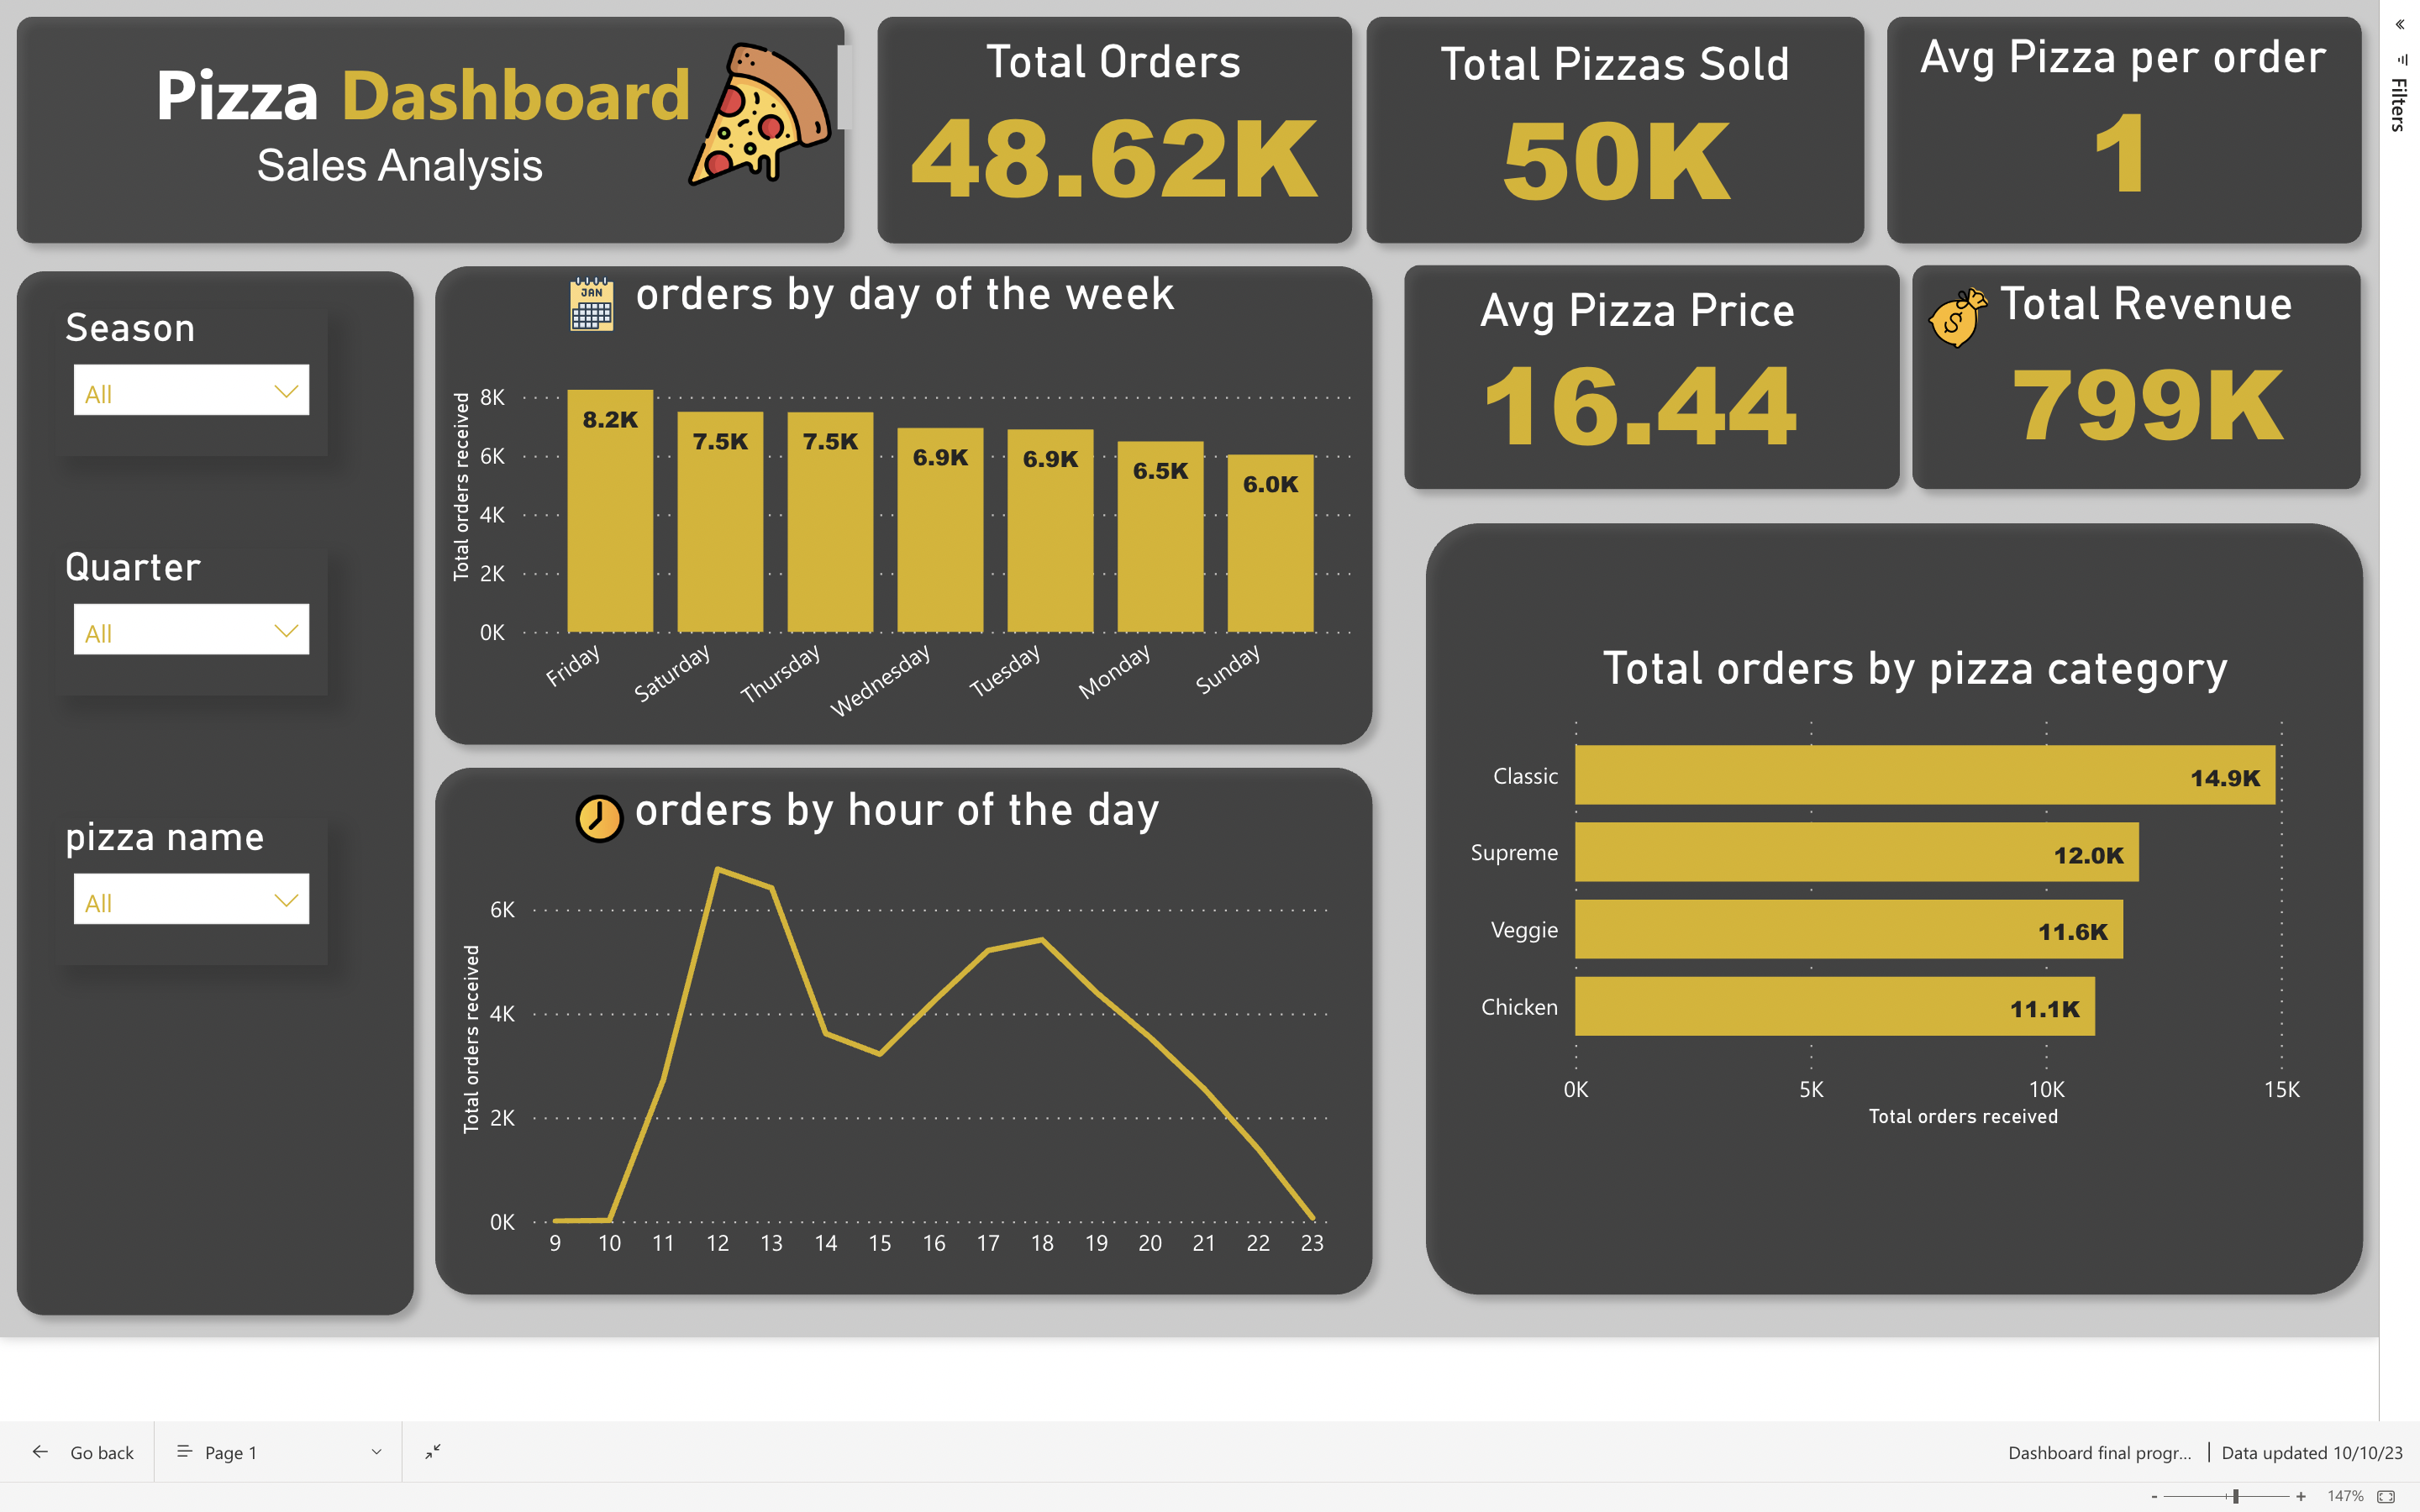

This screenshot's page, from the dashboard's own definition file:
{"tool":"powerbi","page":{"name":"Page 1","canvas":[1280,720],"ordinal":0},"visuals":[{"type":"shape","box":[0,0,463.4,139.8],"z":0},{"type":"shape","box":[463.3,0,273.3,140],"z":1000},{"type":"shape","box":[726,0,285.8,139.9],"z":2000},{"type":"shape","box":[1006.7,0,273.3,140],"z":3000},{"type":"shape","box":[0,137.1,231.7,580],"z":4000},{"type":"shape","box":[224.8,134.4,522.4,275.6],"z":5000},{"type":"shape","box":[224.8,404.4,522.4,301.6],"z":6000},{"type":"shape","box":[746.5,133.9,284.6,138.7],"z":7000},{"type":"shape","box":[1020.3,133.9,259.3,138.7],"z":8000},{"type":"textbox","box":[0,19.2,463.4,57.6],"z":9000},{"type":"textbox","box":[76,69.9,278.6,48.2],"z":10000},{"type":"card","title":"Total Orders","fields":{"Values":["CountNonNull(pizza_data_analysis.order_id)"]},"box":[476.7,21.7,245,95],"z":11000},{"type":"card","title":"Avg Pizza Price","fields":{"Values":["Avg(pizza_data_analysis.price)"]},"box":[758.6,155.6,244.8,94.1],"z":12000},{"type":"card","title":"Avg Pizza per order","fields":{"Values":["Avg(pizza_data_analysis.quantity)"]},"box":[1020.3,19.3,244.8,95.3],"z":13000},{"type":"card","title":"Total Revenue","fields":{"Values":["Sum(pizza_data_analysis.price)"]},"box":[1031.2,151.9,248.4,101.3],"z":15000},{"type":"clusteredColumnChart","title":"orders by day of the week","fields":{"Category":["pizza_data_analysis.day_of_week"],"Y":["Sum(pizza_data_analysis.quantity)"]},"box":[237.2,146.7,499.1,263.2],"z":16000},{"type":"lineChart","title":"orders by hour of the day","fields":{"Category":["pizza_data_analysis.hour_of_day"],"Y":["Sum(pizza_data_analysis.quantity)"]},"box":[242.7,423.6,479.9,263.2],"z":17000},{"type":"shape","box":[758.2,272.8,522.4,433.2],"z":18000},{"type":"clusteredBarChart","title":"Total orders by pizza category","fields":{"Category":["pizza_data_analysis.category"],"Y":["Sum(pizza_data_analysis.quantity)"]},"box":[781.5,348.2,499.1,263.2],"z":19000},{"type":"slicer","title":"Season","fields":{"Values":["pizza_data_analysis.season"]},"box":[30.2,165.9,146.7,79.5],"z":20000},{"type":"slicer","title":"Quarter","fields":{"Values":["pizza_data_analysis.quarter"]},"box":[30.2,294.8,146.7,79.5],"z":21000},{"type":"slicer","title":"pizza name","fields":{"Values":["pizza_data_analysis.name"]},"box":[30.2,440.1,146.7,79.5],"z":22000},{"type":"image","box":[364.7,9.6,87.7,104.2],"z":23000},{"type":"image","box":[297.9,416.1,50.6,48.2],"z":25000},{"type":"image","box":[298,140,41,48],"z":25001},{"type":"image","box":[1031,147,45,48],"z":25002},{"type":"card","title":"Total Pizzas Sold","fields":{"Values":["Sum(pizza_data_analysis.quantity)"]},"box":[746.5,22.9,244.8,95.3],"z":25003}]}

Visuals, with their boxes in screenshot pixels (x1, y1, x2, y2):
shape: x1=0 y1=7 x2=839 y2=267
shape: x1=839 y1=7 x2=1348 y2=267
shape: x1=1328 y1=7 x2=1861 y2=267
shape: x1=1852 y1=7 x2=2361 y2=267
shape: x1=0 y1=262 x2=407 y2=1343
shape: x1=394 y1=257 x2=1368 y2=770
shape: x1=394 y1=760 x2=1368 y2=1322
shape: x1=1366 y1=256 x2=1897 y2=514
shape: x1=1877 y1=256 x2=2360 y2=514
textbox: x1=0 y1=42 x2=839 y2=150
textbox: x1=117 y1=137 x2=636 y2=227
"Total Orders" card: x1=864 y1=47 x2=1320 y2=223
"Avg Pizza Price" card: x1=1389 y1=297 x2=1845 y2=472
"Avg Pizza per order" card: x1=1877 y1=42 x2=2333 y2=220
"Total Revenue" card: x1=1897 y1=290 x2=2360 y2=478
"orders by day of the week" clusteredColumnChart: x1=417 y1=280 x2=1348 y2=770
"orders by hour of the day" lineChart: x1=428 y1=795 x2=1322 y2=1286
shape: x1=1388 y1=515 x2=2363 y2=1322
"Total orders by pizza category" clusteredBarChart: x1=1432 y1=655 x2=2363 y2=1146
"Season" slicer: x1=31 y1=316 x2=305 y2=464
"Quarter" slicer: x1=31 y1=556 x2=305 y2=704
"pizza name" slicer: x1=31 y1=827 x2=305 y2=974
image: x1=655 y1=24 x2=818 y2=218
image: x1=530 y1=782 x2=624 y2=872
image: x1=530 y1=267 x2=607 y2=357
image: x1=1897 y1=281 x2=1981 y2=370
"Total Pizzas Sold" card: x1=1366 y1=49 x2=1823 y2=227
